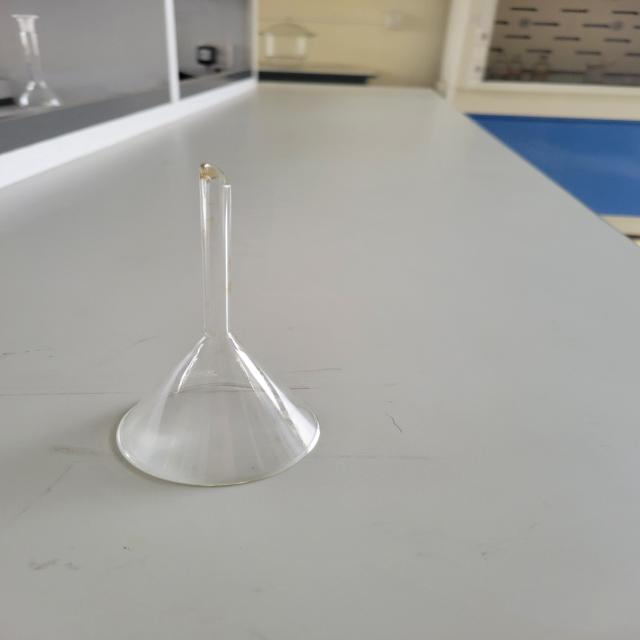Funnel: (79, 142, 372, 516)
